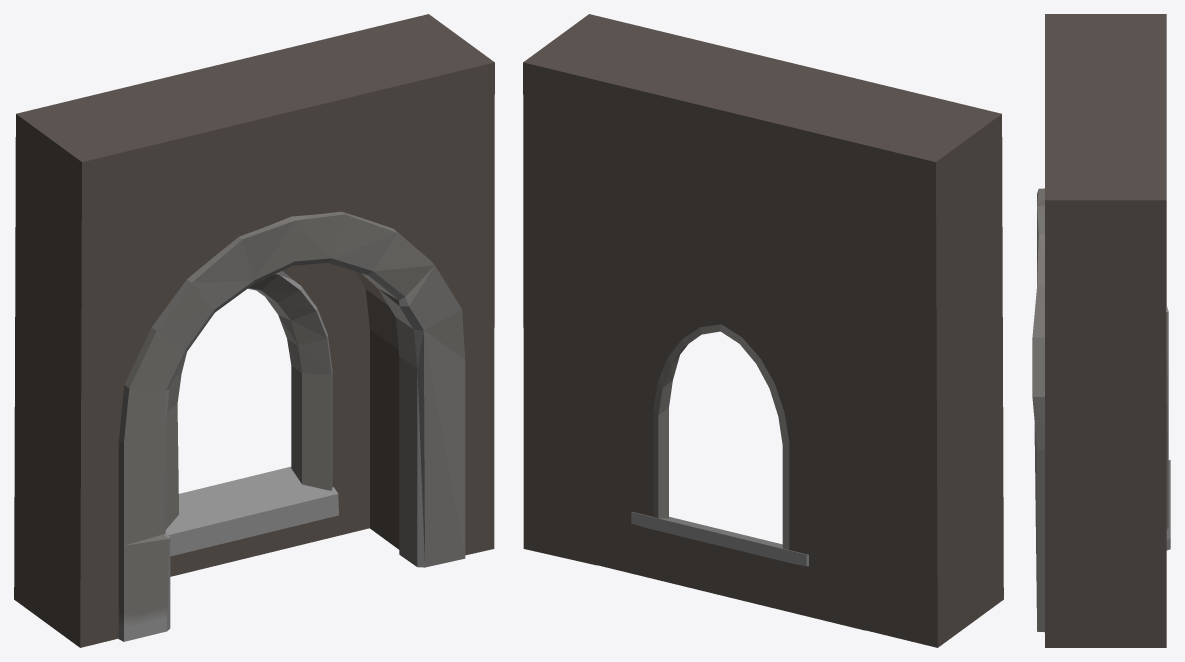
The model's file is MCastle_SquareWalls_Int_WindowArch.FBX.
3 views of the same model, side by side, from view 1: azimuth 30°, elevation 25°; view 2: azimuth 150°, elevation 25°; view 3: azimuth 270°, elevation 25° (orthographic). The views are drawn at different scales.
Parts seen in each view (by area): view 1: MCastle_SquareWalls_Int_WindowArch_LOD0; view 2: MCastle_SquareWalls_Int_WindowArch_LOD0; view 3: MCastle_SquareWalls_Int_WindowArch_LOD0.
Part boxes in pixels (bbox=[...]): MCastle_SquareWalls_Int_WindowArch_LOD0: bbox=[14, 14, 494, 647]; MCastle_SquareWalls_Int_WindowArch_LOD0: bbox=[523, 14, 1003, 647]; MCastle_SquareWalls_Int_WindowArch_LOD0: bbox=[1032, 14, 1170, 647].
Size of what is drawn, in the model's own units: 4.02 by 4.51 by 1.26.
